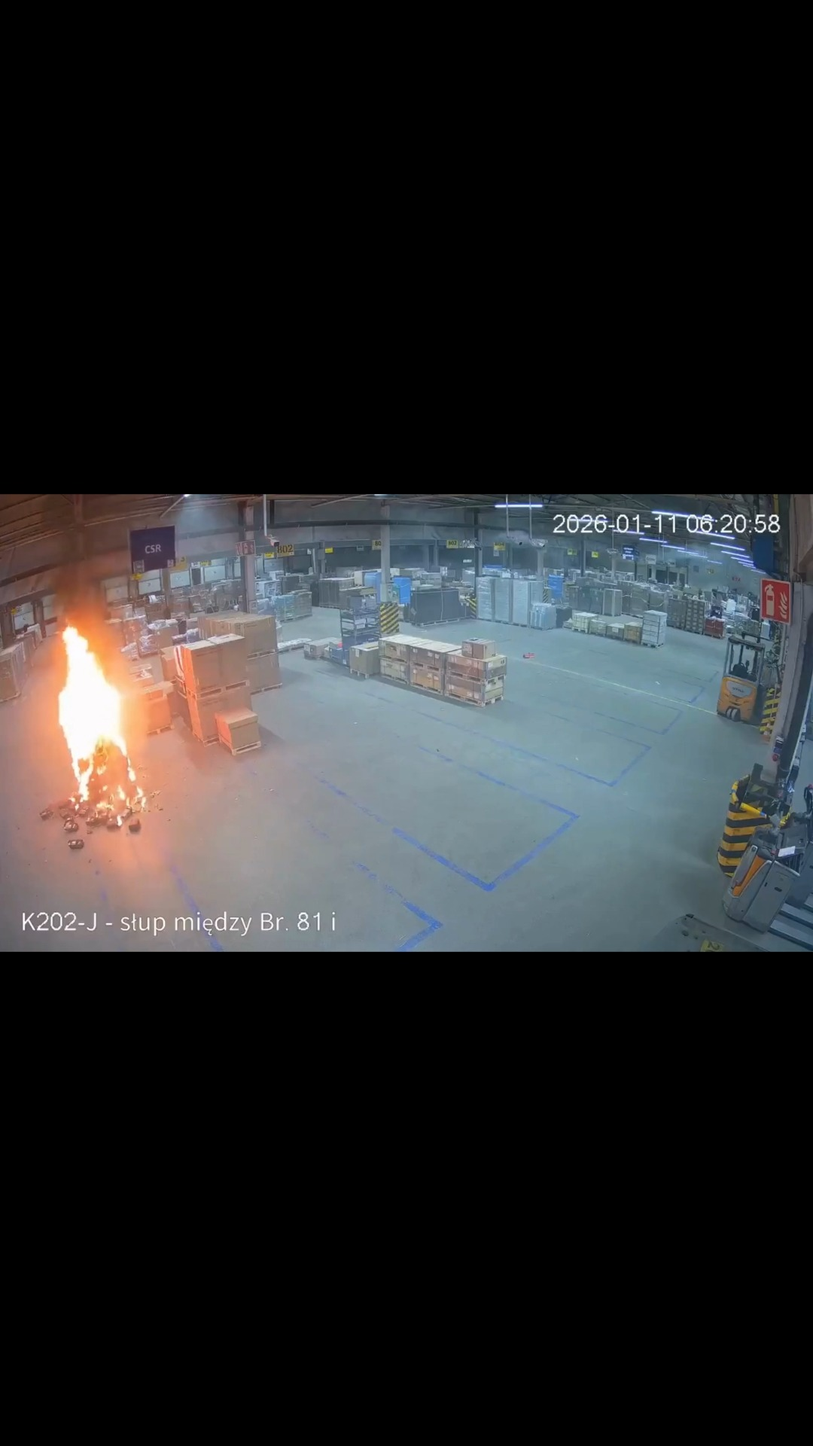fire: (58, 624, 147, 826)
smoke: (32, 503, 127, 640)
